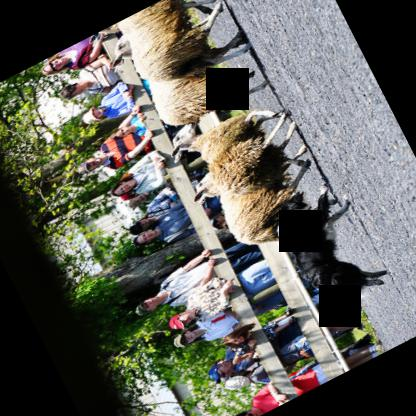handbag: (163, 221, 194, 241), (147, 205, 170, 213), (86, 85, 107, 89)
